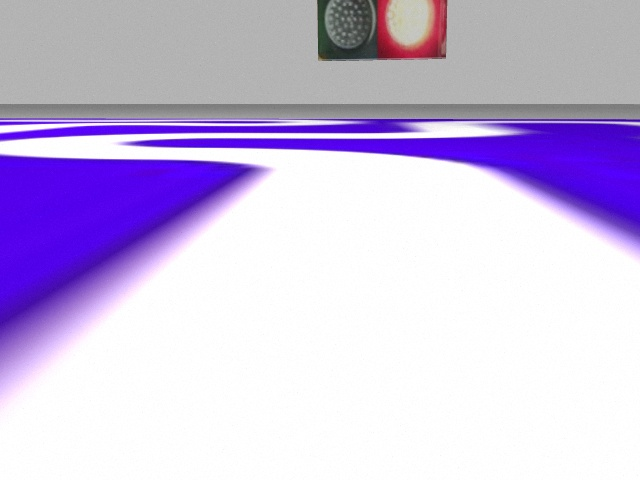red: (376, 1, 447, 59)
